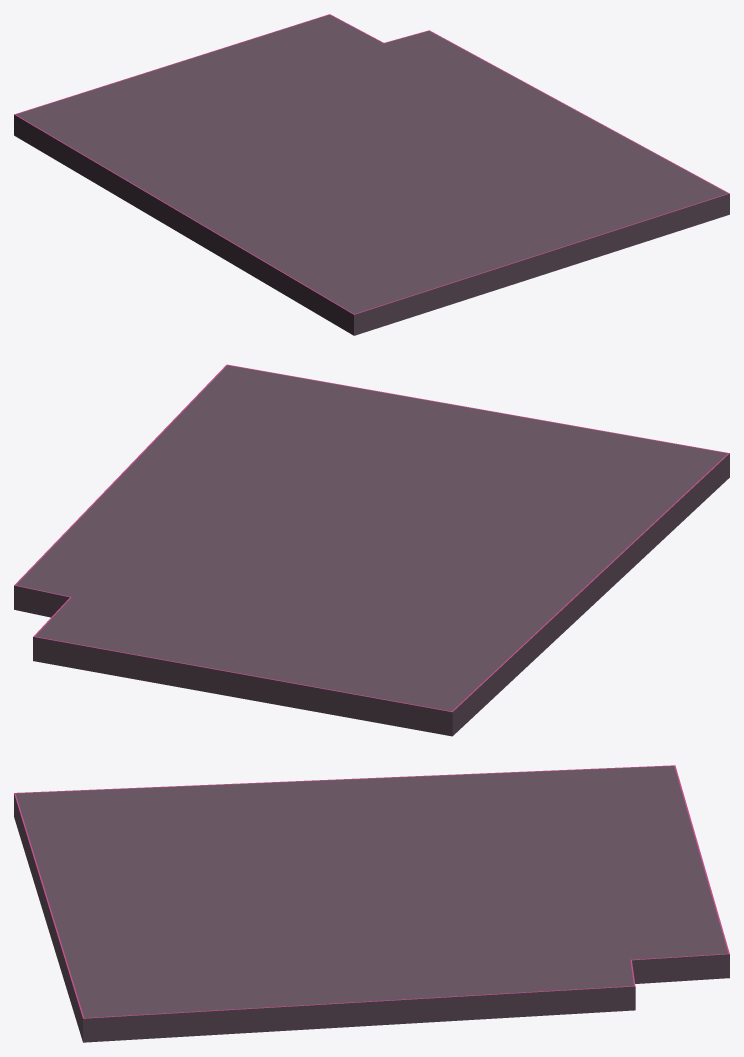
File: way-641119425.glb
3 renders of one model, top to bottom at view 1: azimuth 30°, elevation 25°; view 2: azimuth 150°, elevation 25°; view 3: azimuth 270°, elevation 25°, orthographic. The views are drawn at different scales.
Visible parts, largest first — view 1: way-641119425; view 2: way-641119425; view 3: way-641119425.
Part boxes in pixels (<box>): way-641119425: <box>14,14,729,335</box>; way-641119425: <box>14,364,729,736</box>; way-641119425: <box>14,765,729,1042</box>.
Size of the model in its own units: 68.05 by 3 by 81.25.
